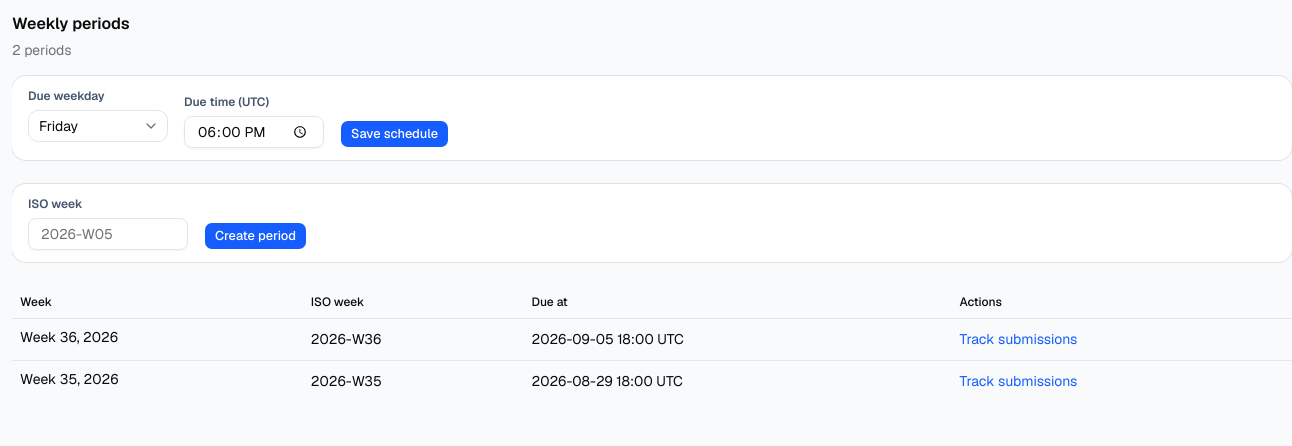
Test: WeeklyPeriodsPage › create period › POSTs iso_week and toasts Period created on 201
Expected: the element with test id "weekly-create-form" is shown, 12,184 -> 1291,262
Type "2026-W40" into the field labelled "ISO week" at (108,234), box 28,218 -> 188,250
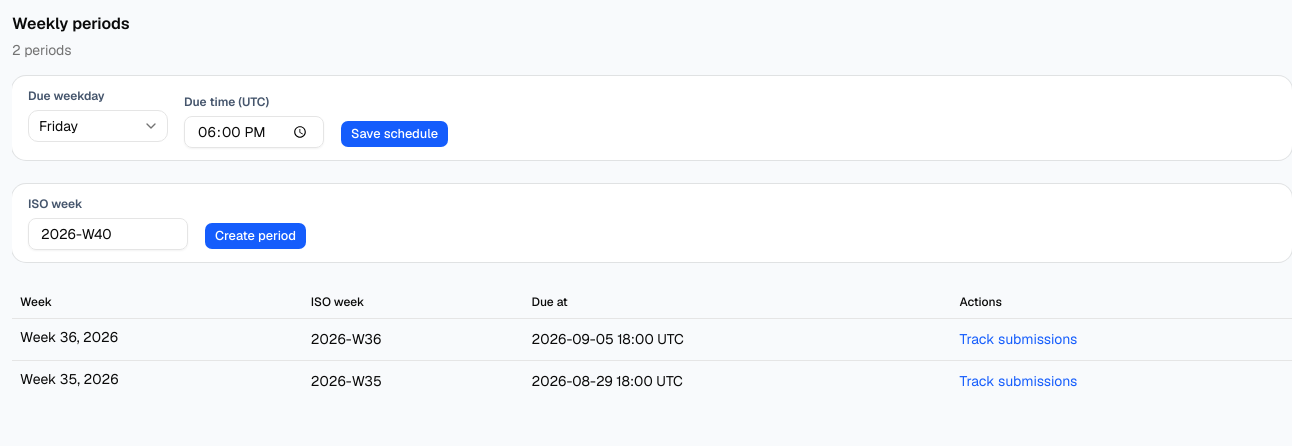
Click the button "Create period" at (256,236), box 204,222 -> 307,250
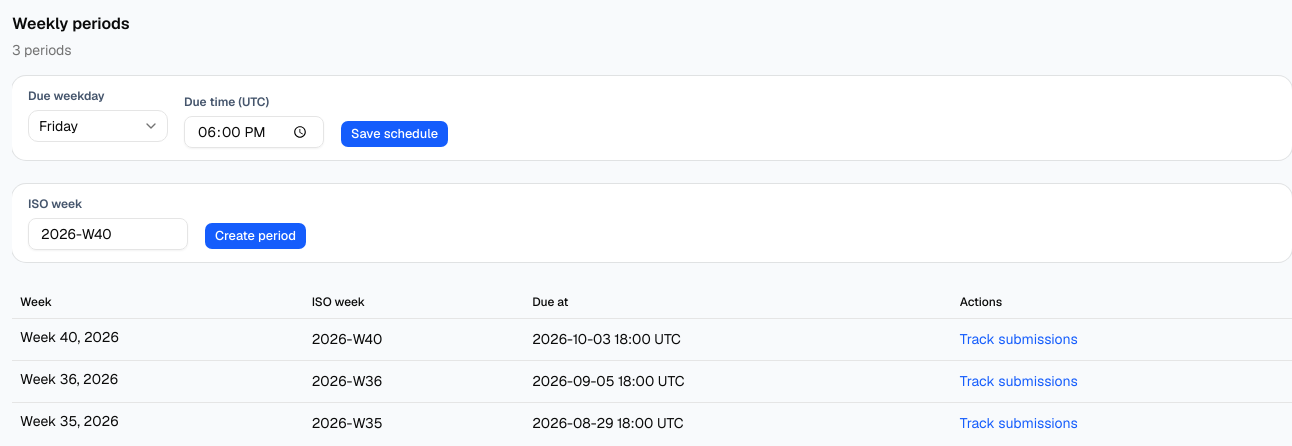
Expected: the text "Week 40, 2026" is shown, 20,326 -> 119,346
